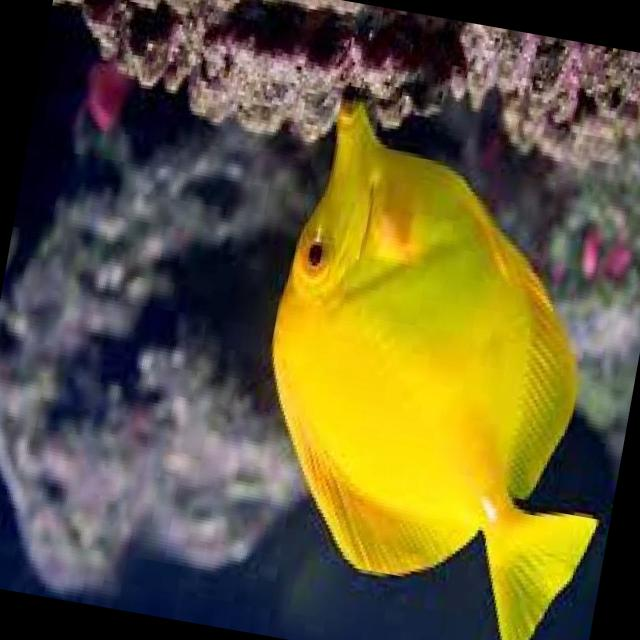YellowTang: (223, 81, 640, 640)
